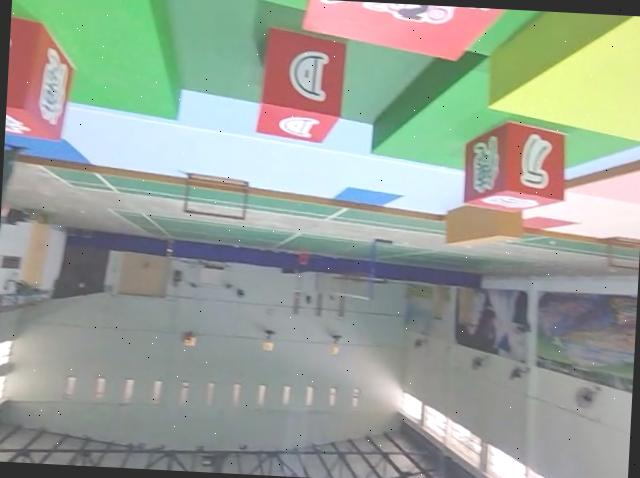R1: (300, 0, 539, 76)
R2 Fake: (5, 4, 85, 150), (462, 118, 570, 221)
R2 Real: (255, 23, 351, 149)
